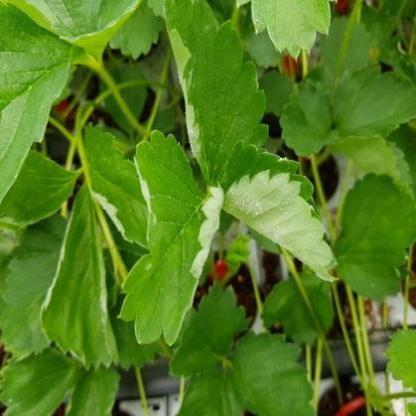Strawberry_Powdery_Mildew_Leaf: (116, 130, 224, 348), (163, 0, 269, 197), (222, 140, 340, 282), (39, 181, 119, 370), (83, 121, 150, 252)
